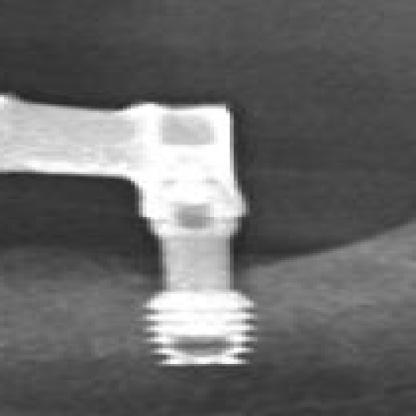Bicon: (121, 277, 287, 394)
